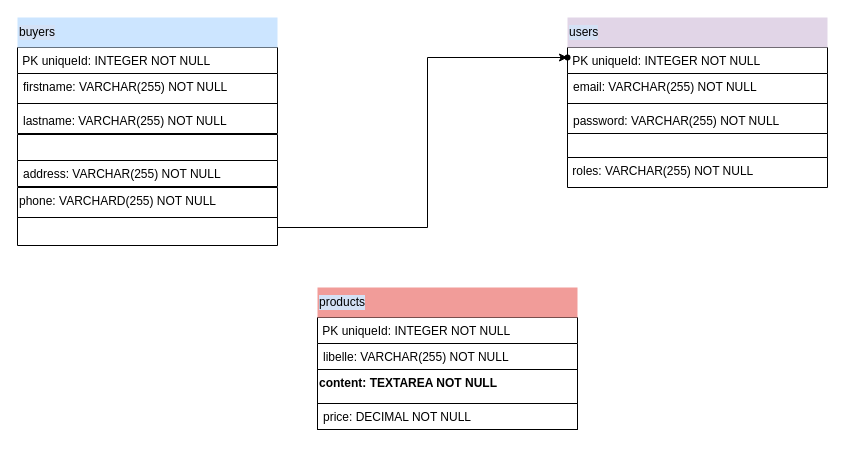
Some shapes in this 845 by 449 pixel diagram are drawn without their labels. The centre of each missing label's shape, as x and y in pixels:
company: VARCHAR(255) NOT NULL: the point at 697,145
company_associated_id: INTEGER NOT NULL: the point at 147,230
email: VARCHAR (255) NOT NULL: the point at 147,160
